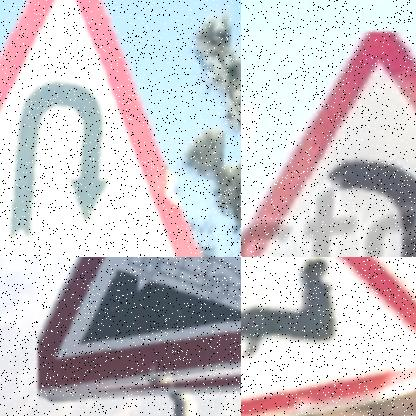Left bend: (241, 33, 416, 257)
Steep Descent: (39, 257, 241, 398)
Zigzag Road Ahead: (241, 257, 416, 416)
